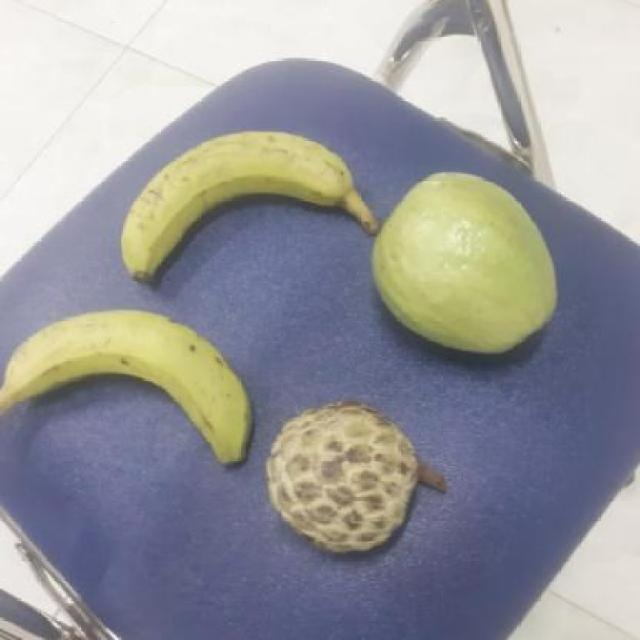banana: (0, 309, 254, 473), (126, 134, 380, 288)
guava: (371, 179, 563, 353)
sugar apple: (268, 398, 444, 554)
